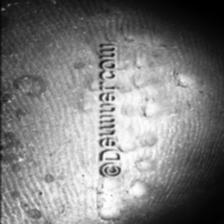Toxin: (0, 60, 95, 208), (121, 29, 167, 199)
